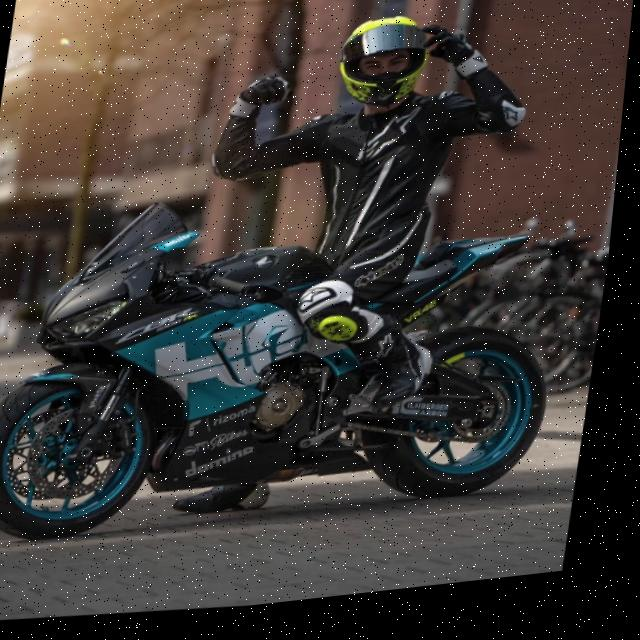helmet: (330, 16, 440, 126)
